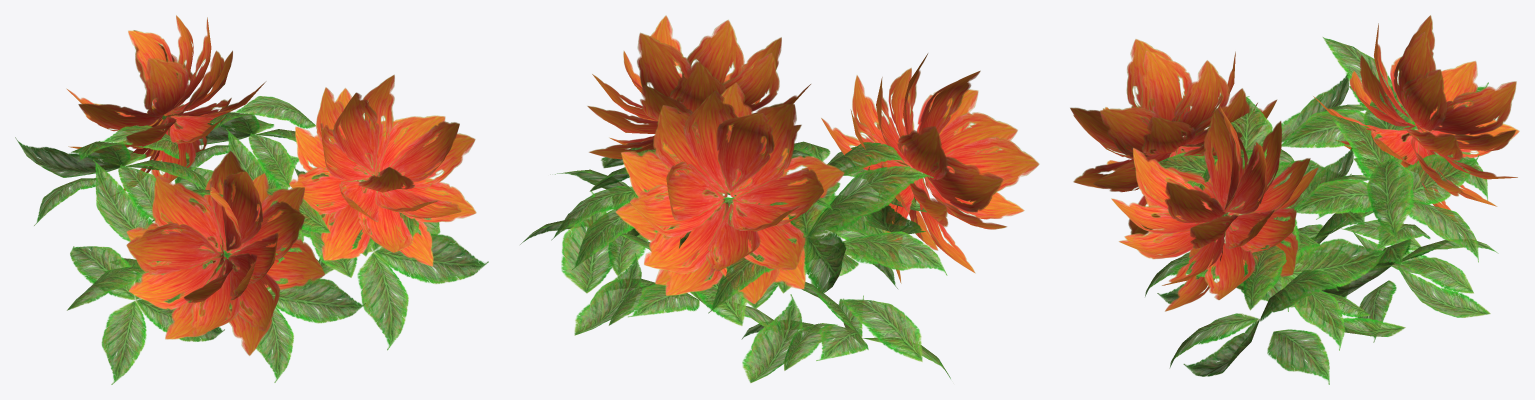
Rendered from bush.glb.
3 views of the same model, side by side, from view 1: azimuth 30°, elevation 25°; view 2: azimuth 150°, elevation 25°; view 3: azimuth 270°, elevation 25° (orthographic). The views are drawn at different scales.
Parts seen in each view (by area): view 1: Petal_shaped21 (×2), Bush_leaf19 (×3), Bush_leaf16 (×2), Petal_shaped10 (×3), Petal_shaped9 (×3), Petal_shaped16 (×2), Petal_shaped23 (×3), Petal_shaped17 (×3), Petal_shaped11 (×3), Petal_shaped15 (×3), Petal_shaped5 (×2), Bush_leaf25 (×2) (+22 smaller); view 2: Bush_leaf13 (×4), Petal_shaped19 (×3), Bush_leaf18 (×4), Petal_shaped16 (×3), Petal_shaped21 (×3), Petal_shaped10 (×3), Petal_shaped8 (×2), Petal_shaped14 (×3), Petal_shaped20 (×3), Bush_leaf20 (×3), Petal_shaped12 (×3), Bush_leaf14 (×2) (+18 smaller); view 3: Petal_shaped20 (×3), Bush_leaf19 (×4), Bush_leaf18 (×5), Bush_leaf13 (×4), Petal_shaped13 (×3), Petal_shaped5 (×3), Petal_shaped22 (×3), Petal_shaped11 (×3), Petal_shaped12 (×3), Bush_leaf16 (×3), Bush_leaf17 (×3), Bush_leaf14 (×2) (+22 smaller).
Boxes of the visible parts, x1,y1,x2,y2 form: Petal_shaped21 (×2): (126, 92, 379, 274); Bush_leaf19 (×3): (15, 137, 488, 341); Bush_leaf16 (×2): (101, 252, 408, 384); Petal_shaped10 (×3): (78, 103, 372, 309); Petal_shaped9 (×3): (144, 58, 378, 336); Petal_shaped16 (×2): (152, 74, 394, 252); Petal_shaped23 (×3): (169, 115, 371, 355); Petal_shaped17 (×3): (171, 50, 413, 331); Petal_shaped11 (×3): (172, 50, 476, 260); Petal_shaped15 (×3): (126, 116, 369, 339); Petal_shaped5 (×2): (223, 130, 475, 246); Bush_leaf25 (×2): (162, 115, 365, 323); Bush_leaf13 (×4): (561, 191, 925, 382); Petal_shaped19 (×3): (716, 37, 1039, 192); Bush_leaf18 (×4): (550, 142, 933, 336); Petal_shaped16 (×3): (637, 32, 947, 271); Petal_shaped21 (×3): (682, 20, 1003, 231); Petal_shaped10 (×3): (722, 52, 1006, 229); Petal_shaped8 (×2): (683, 91, 1017, 192); Petal_shaped14 (×3): (669, 61, 947, 270); Petal_shaped20 (×3): (650, 15, 980, 220); Bush_leaf20 (×3): (695, 141, 922, 361); Petal_shaped12 (×3): (592, 74, 908, 273); Bush_leaf14 (×2): (825, 195, 947, 275); Petal_shaped20 (×3): (1126, 39, 1516, 222); Bush_leaf19 (×4): (1183, 160, 1391, 376); Bush_leaf18 (×5): (1231, 37, 1411, 321); Bush_leaf13 (×4): (1281, 73, 1490, 336); Petal_shaped13 (×3): (1070, 69, 1446, 257); Petal_shaped5 (×3): (1140, 50, 1515, 248); Petal_shaped22 (×3): (1141, 117, 1461, 299); Petal_shaped11 (×3): (1100, 107, 1462, 285); Petal_shaped12 (×3): (1171, 60, 1517, 248); Bush_leaf16 (×3): (1169, 151, 1487, 368); Bush_leaf17 (×3): (1158, 109, 1498, 264); Bush_leaf14 (×2): (1267, 280, 1396, 384).
Size of the model in its own units: 60.72 by 41.72 by 56.26.
2 materials, 2 textured.
